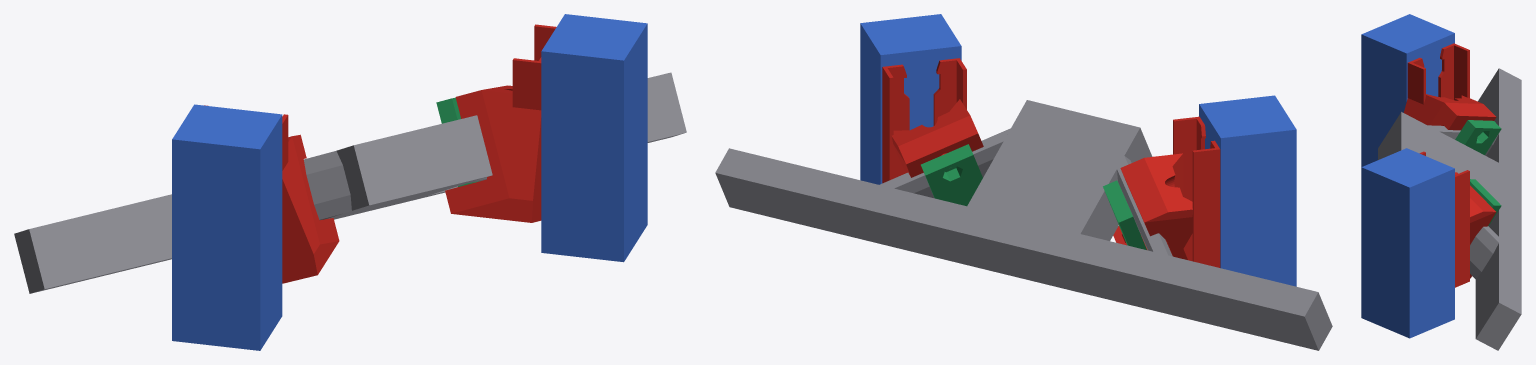
Rendered from assembly_m12.obj.
3 views of the same model, side by side, from view 1: azimuth 30°, elevation 25°; view 2: azimuth 150°, elevation 25°; view 3: azimuth 270°, elevation 25° (orthographic). The views are drawn at different scales.
Parts seen in each view (by area): view 1: left_light_placeholder, right_light_placeholder, hanger_schematic, right_saddle, left_saddle; view 2: hanger_schematic, left_light_placeholder, left_saddle, right_light_placeholder, right_saddle, right_keeper, left_keeper; view 3: right_light_placeholder, hanger_schematic, left_light_placeholder, left_saddle, right_saddle, left_keeper, right_keeper.
Boxes of the visible parts, left/top/right/bottom form: left_light_placeholder: left=172, top=104, right=282, bottom=350; right_light_placeholder: left=541, top=14, right=647, bottom=262; hanger_schematic: left=14, top=72, right=686, bottom=293; right_saddle: left=445, top=24, right=556, bottom=222; left_saddle: left=204, top=105, right=339, bottom=283; hanger_schematic: left=715, top=100, right=1332, bottom=350; left_light_placeholder: left=1199, top=95, right=1296, bottom=286; left_saddle: left=1113, top=116, right=1220, bottom=267; right_light_placeholder: left=860, top=14, right=961, bottom=184; right_saddle: left=882, top=58, right=983, bottom=183; right_keeper: left=921, top=144, right=982, bottom=206; left_keeper: left=1103, top=180, right=1146, bottom=249; right_light_placeholder: left=1361, top=148, right=1454, bottom=338; hanger_schematic: left=1378, top=68, right=1521, bottom=350; left_light_placeholder: left=1361, top=14, right=1454, bottom=166; left_saddle: left=1403, top=43, right=1496, bottom=130; right_saddle: left=1419, top=151, right=1496, bottom=287; left_keeper: left=1455, top=120, right=1501, bottom=155; right_keeper: left=1470, top=179, right=1501, bottom=225.
Size of the model in its own units: 260 by 78 by 74.99.
